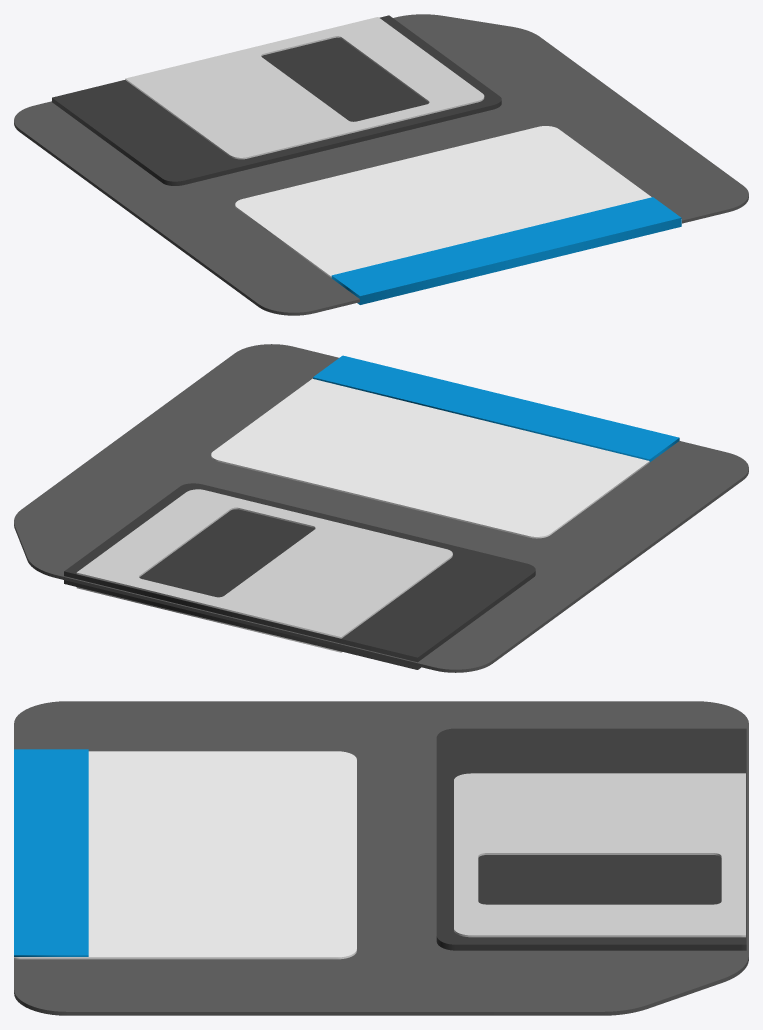
The model's file is emoji_u1f4be.glb.
3 renders of one model, top to bottom at view 1: azimuth 30°, elevation 25°; view 2: azimuth 150°, elevation 25°; view 3: azimuth 270°, elevation 25°, orthographic. The views are drawn at different scales.
Parts seen in each view (by area): view 1: emoji_u1f4be; view 2: emoji_u1f4be; view 3: emoji_u1f4be.
Part boxes in pixels (box(x1,y1,x2,y2)): emoji_u1f4be: box(14, 14, 748, 315); emoji_u1f4be: box(14, 344, 748, 672); emoji_u1f4be: box(14, 701, 748, 1015).
Bounding box in the file's own units: 0.034 × 0.001 × 0.034.
